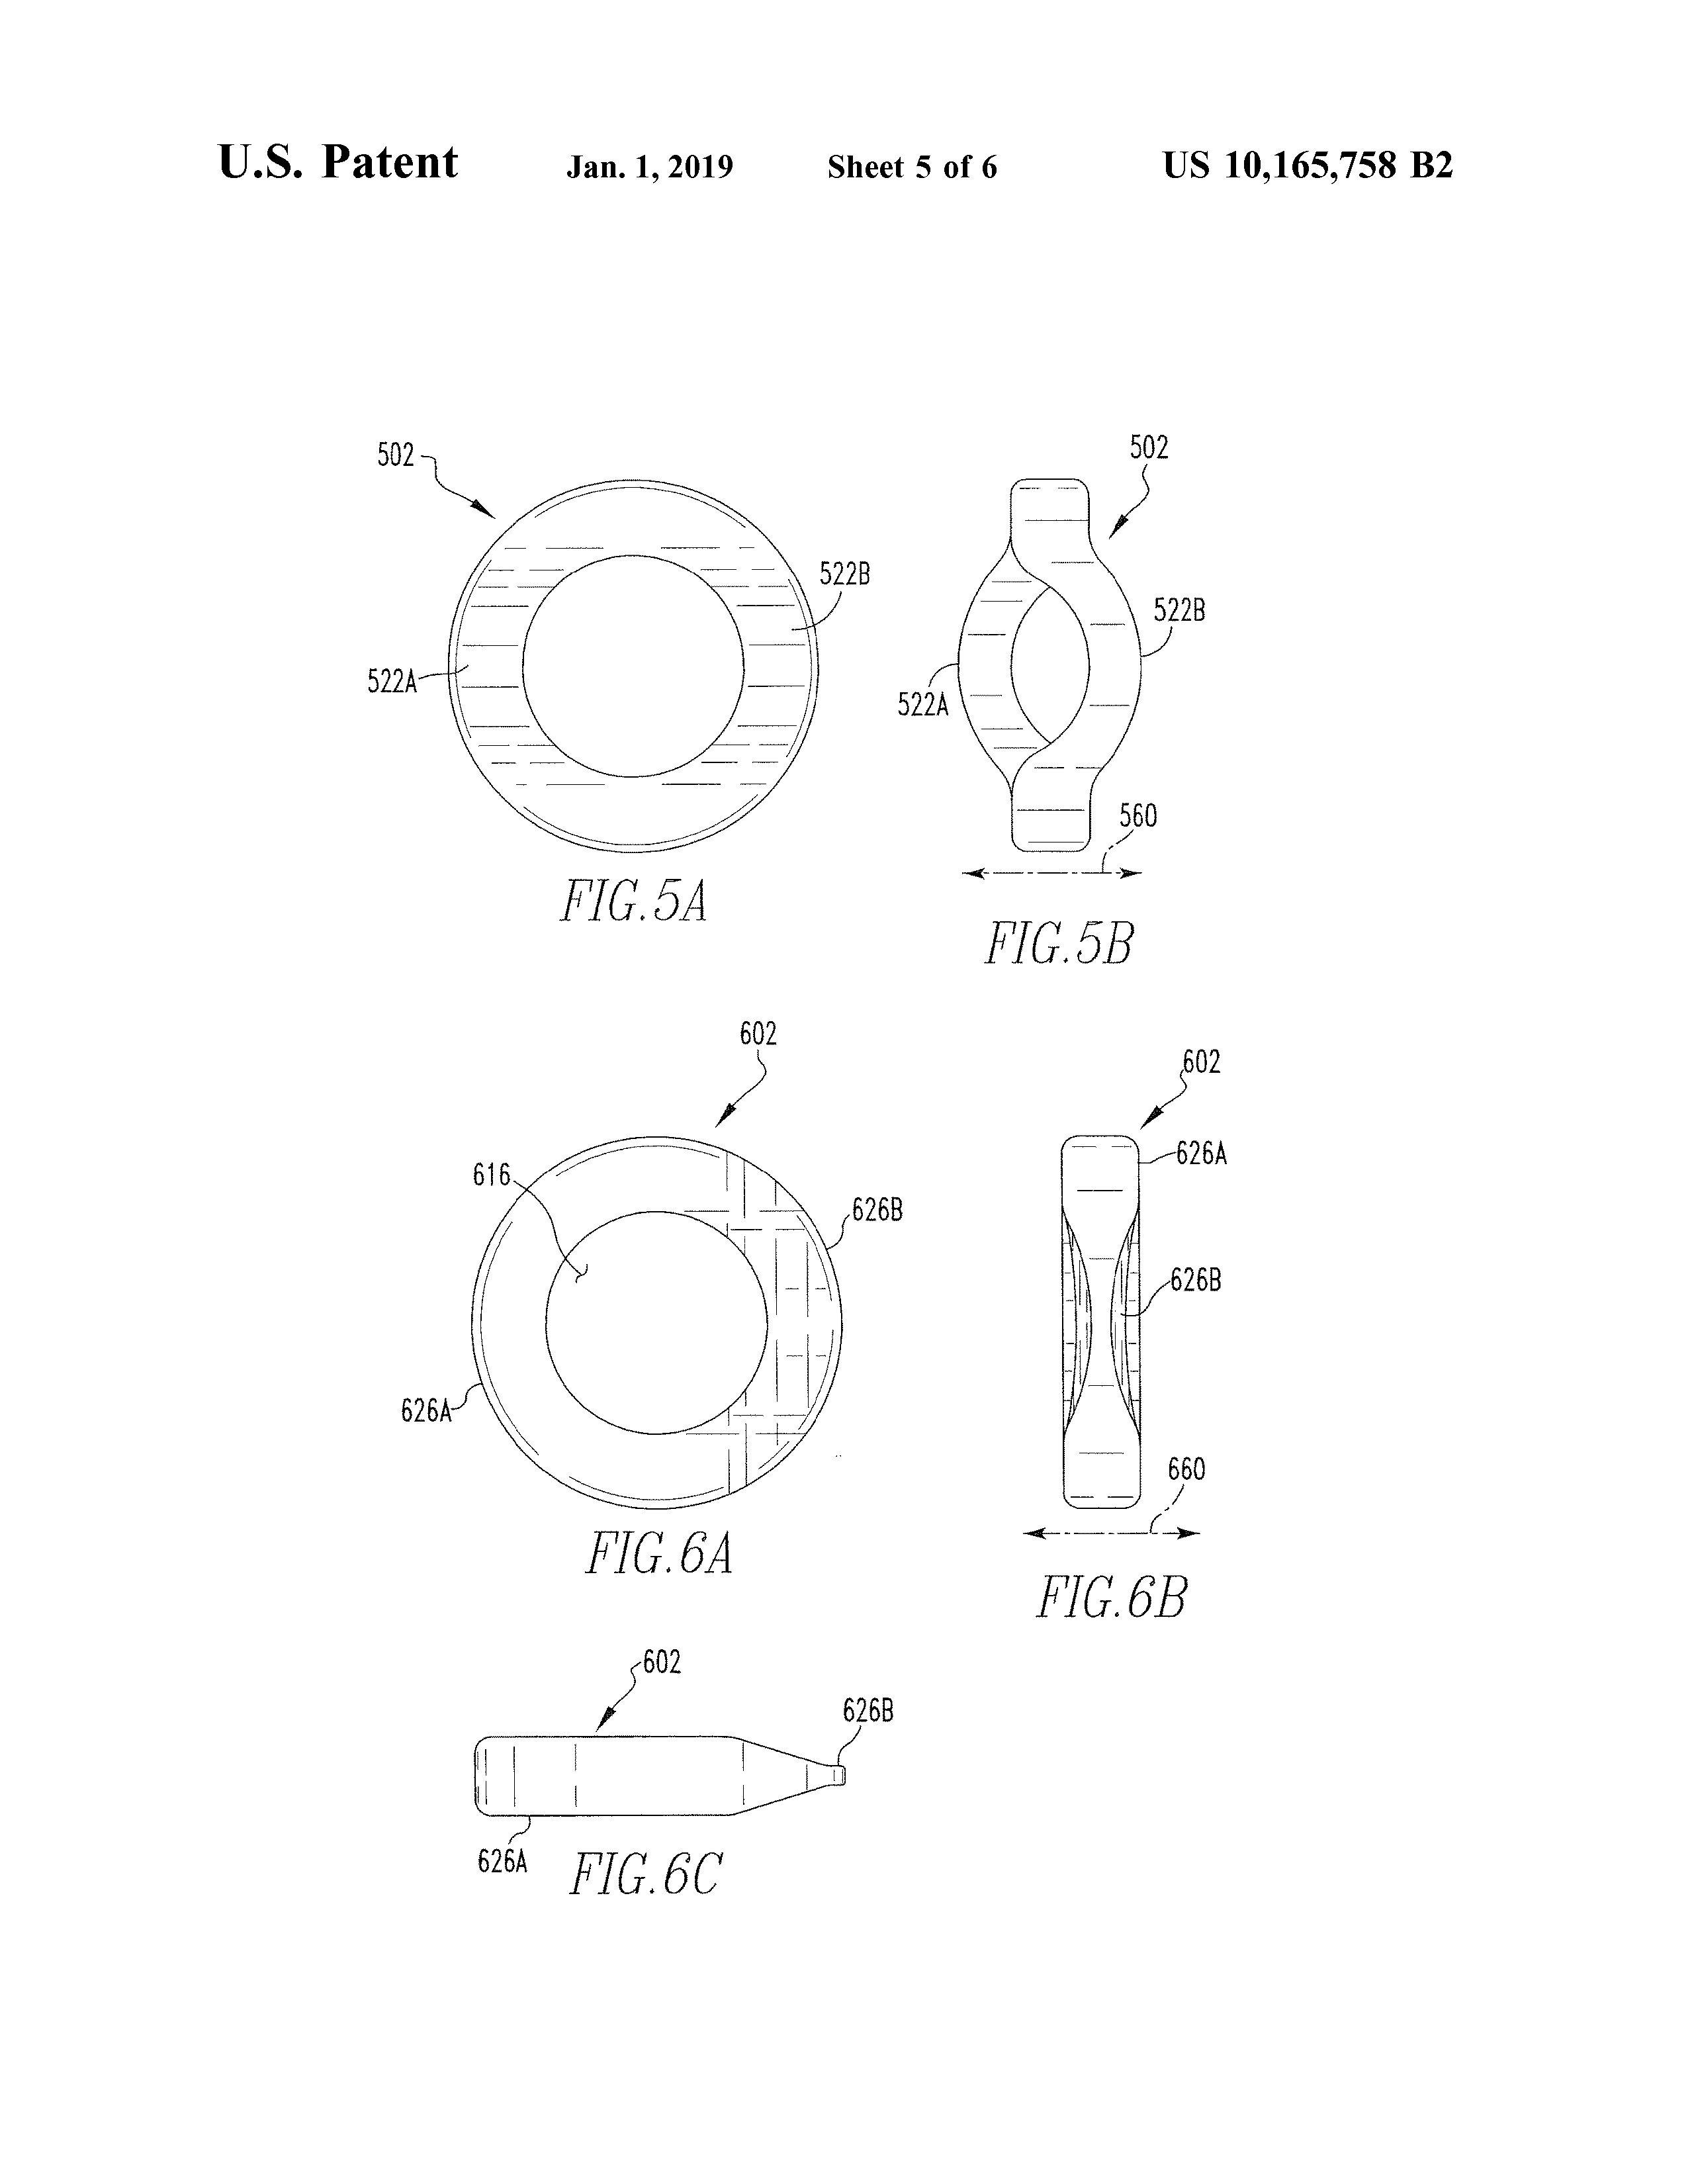patent image: (343, 394, 879, 979), (371, 1009, 903, 1594), (981, 1001, 1361, 1682), (889, 422, 1220, 984), (426, 1629, 936, 1911)
